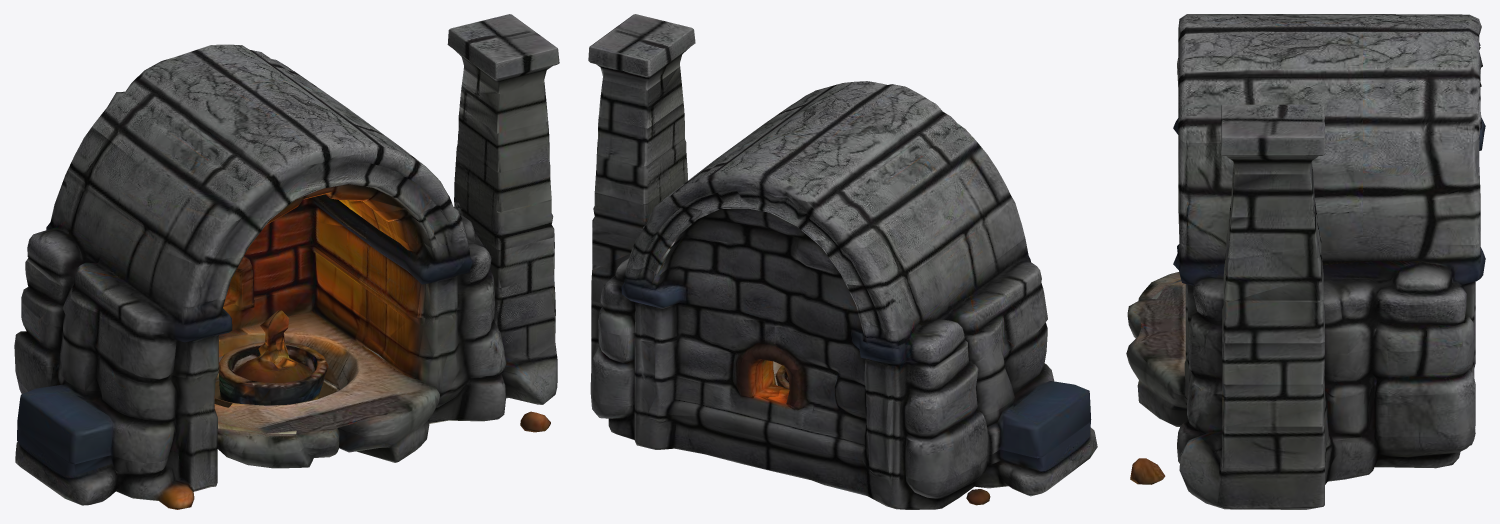
Rendered from FurnaceAnimation_Modular.glb.
3 renders of one model, left to right at view 1: azimuth 30°, elevation 25°; view 2: azimuth 150°, elevation 25°; view 3: azimuth 270°, elevation 25°, orthographic. The views are drawn at different scales.
Visible parts, largest first — view 1: BA_Floor_02, BA_Trim_02, BA_Roof_01, BA_Wall_01, BA_Wall_03, BA_Wall_02, BA_Floor_01, BA_Trim_01, BA_Wall_04; view 2: BA_Floor_02, BA_Wall_03, BA_Trim_02, BA_Roof_01, BA_Wall_04, BA_Wall_02, BA_Trim_01, BA_Wall_01, BA_Floor_01; view 3: BA_Roof_01, BA_Trim_02, BA_Floor_02, BA_Wall_03, BA_Trim_01, BA_Wall_04, BA_Floor_01, BA_Wall_02, BA_Wall_01.
Part boxes in pixels (box(x1,y1,x2,y2)): BA_Floor_02: box(14, 284, 556, 464); BA_Trim_02: box(92, 49, 547, 221); BA_Roof_01: box(143, 14, 559, 171); BA_Wall_01: box(15, 246, 555, 420); BA_Wall_03: box(27, 181, 554, 346); BA_Wall_02: box(21, 208, 554, 383); BA_Floor_01: box(15, 347, 557, 509); BA_Trim_01: box(68, 106, 549, 266); BA_Wall_04: box(53, 143, 551, 307); BA_Floor_02: box(590, 300, 1091, 482); BA_Wall_03: box(592, 174, 1043, 370); BA_Trim_02: box(598, 67, 988, 248); BA_Roof_01: box(588, 14, 939, 201); BA_Wall_04: box(595, 138, 1024, 330); BA_Wall_02: box(592, 227, 1047, 408); BA_Trim_01: box(597, 103, 1012, 290); BA_Wall_01: box(591, 264, 1047, 445); BA_Floor_01: box(591, 337, 1097, 509); BA_Roof_01: box(1178, 14, 1480, 174); BA_Trim_02: box(1177, 20, 1482, 217); BA_Floor_02: box(1126, 272, 1475, 468); BA_Wall_03: box(1173, 112, 1485, 343); BA_Trim_01: box(1178, 119, 1480, 258); BA_Wall_04: box(1178, 176, 1480, 300); BA_Floor_01: box(1126, 281, 1475, 509); BA_Wall_02: box(1185, 281, 1475, 384); BA_Wall_01: box(1185, 312, 1475, 426).
Size of the model in its own units: 2.86 by 1.91 by 1.67.
1 material, 1 textured.
